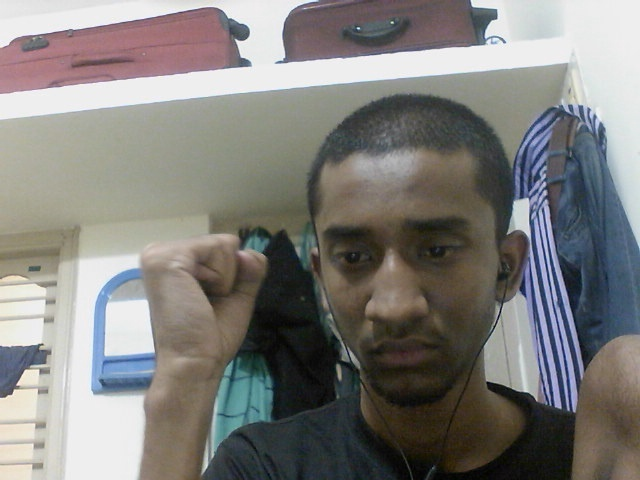hand: (136, 232, 271, 377)
